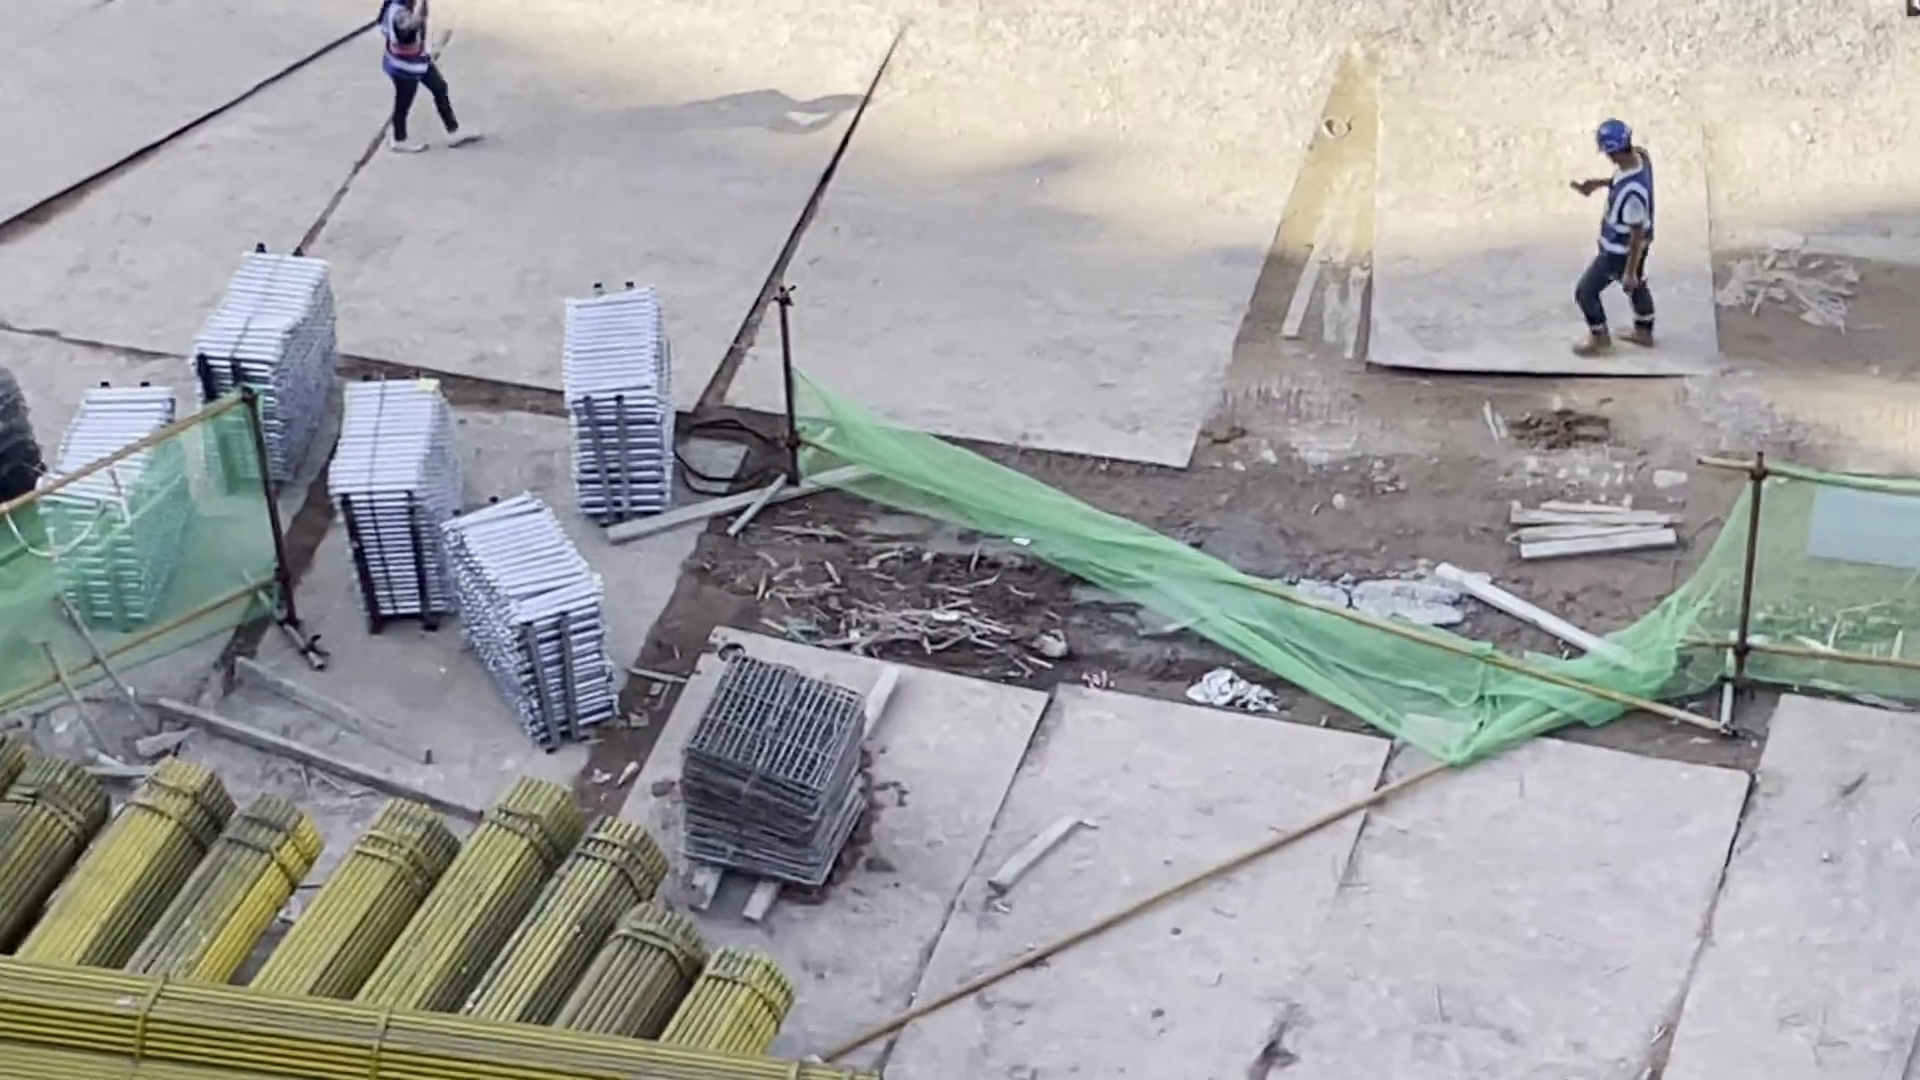helmet: (1595, 115, 1647, 158)
person: (1536, 115, 1691, 371), (362, 1, 508, 143)
scaffold: (454, 502, 639, 741), (44, 384, 192, 628), (325, 376, 464, 621), (196, 236, 335, 478), (561, 288, 690, 523)
vest: (1587, 163, 1657, 258), (376, 6, 448, 68)
